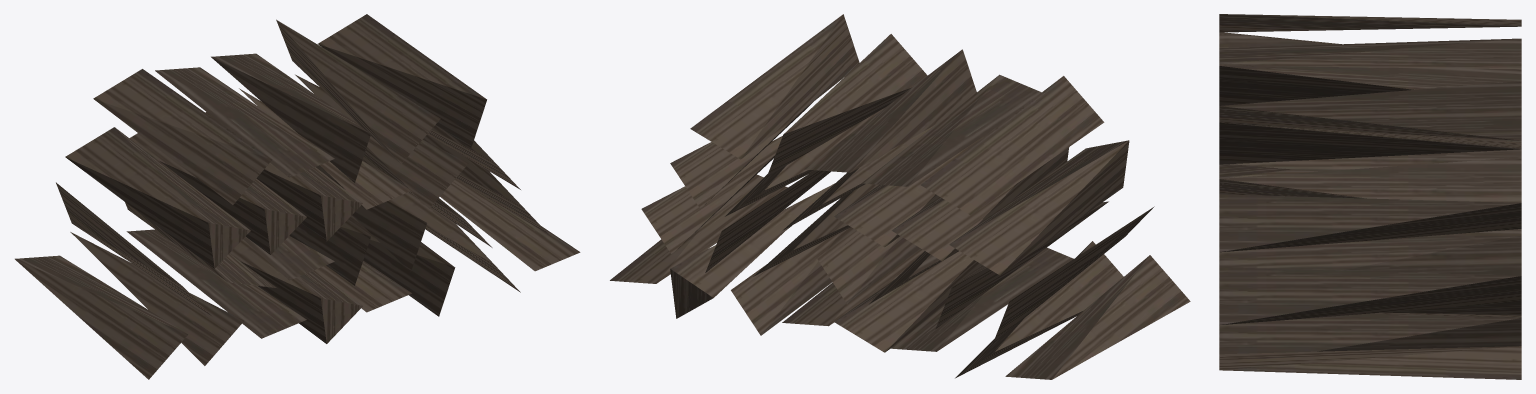
The model's file is firewood_pile_lod2.glb.
3 renders of one model, left to right at view 1: azimuth 30°, elevation 25°; view 2: azimuth 150°, elevation 25°; view 3: azimuth 270°, elevation 25°, orthographic. The views are drawn at different scales.
Parts seen in each view (by area): view 1: m; view 2: m; view 3: m.
Boxes of the visible parts, x1,y1,x2,y2 form: m: [15, 14, 580, 379]; m: [610, 14, 1190, 379]; m: [1219, 14, 1521, 379].
Bounding box in the file's own units: 1.85 × 0.8401 × 1.
1 material, 1 textured.
